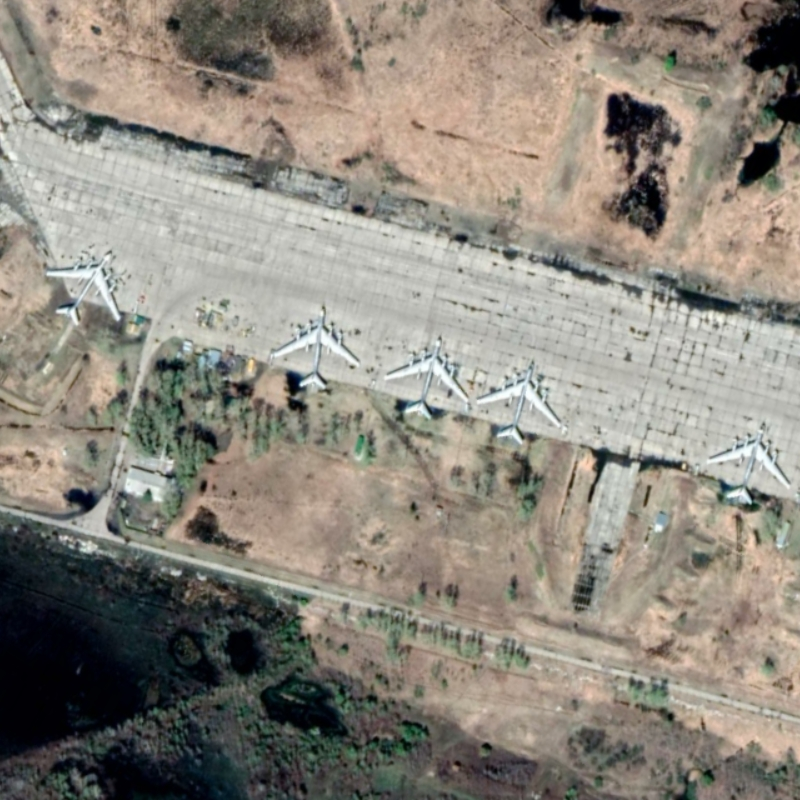A17: (271, 307, 362, 391), (474, 364, 563, 447), (384, 337, 470, 420), (705, 425, 792, 507), (44, 251, 123, 328)
